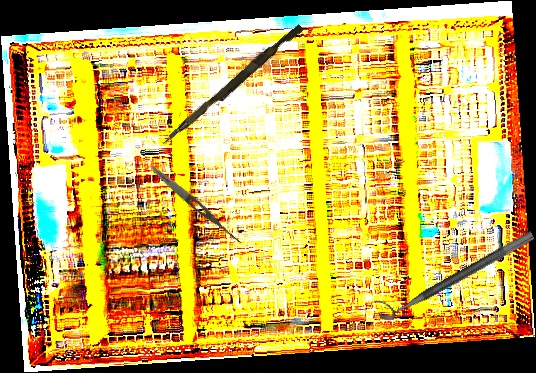Dressing Forceps: (148, 163, 245, 247)
Fixation Ring: (371, 217, 536, 325)
Pusher: (160, 20, 305, 151)
